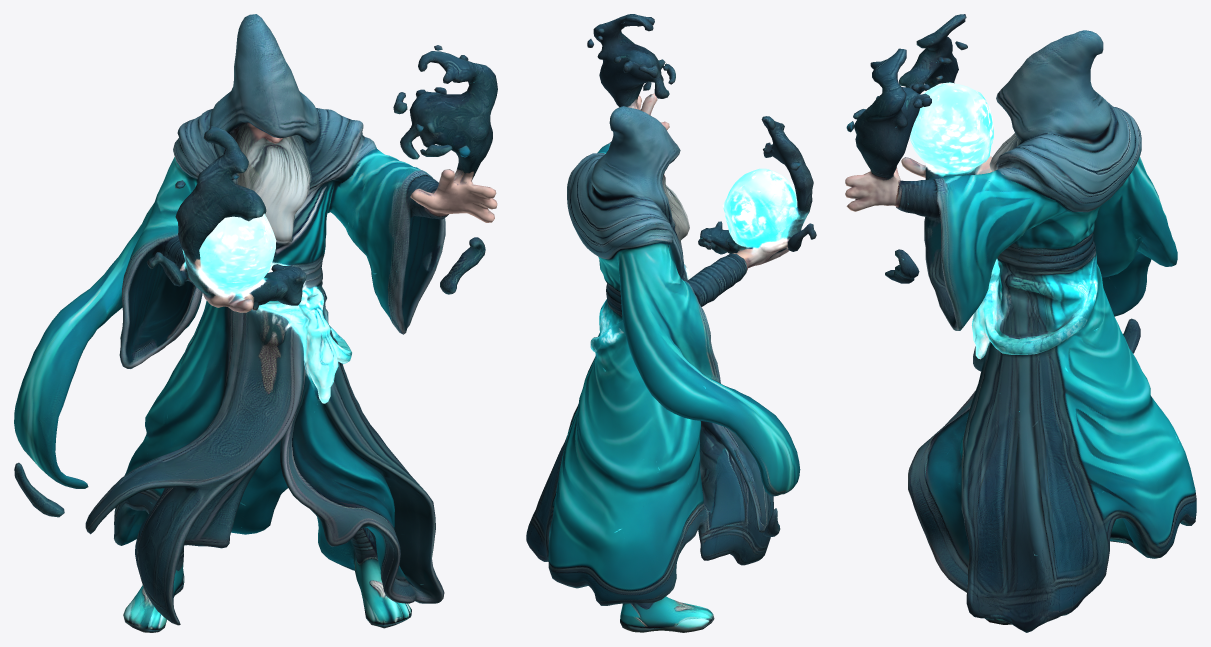
The model's file is aqua-madoor.glb.
3 renders of one model, left to right at view 1: azimuth 30°, elevation 25°; view 2: azimuth 150°, elevation 25°; view 3: azimuth 270°, elevation 25°, orthographic. The views are drawn at different scales.
Bounding box in the file's own units: 1.15 × 1.91 × 1.08.
Materials: 1 (1 with a texture image).
